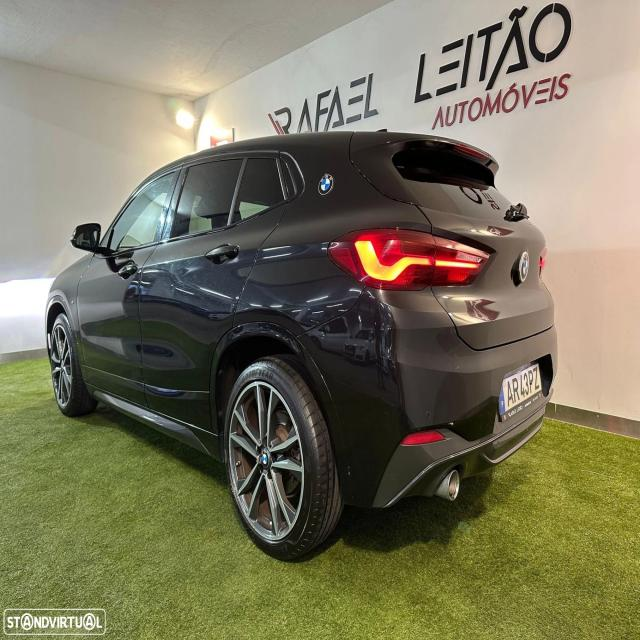portuguese-license-plates: (498, 363, 542, 423)
